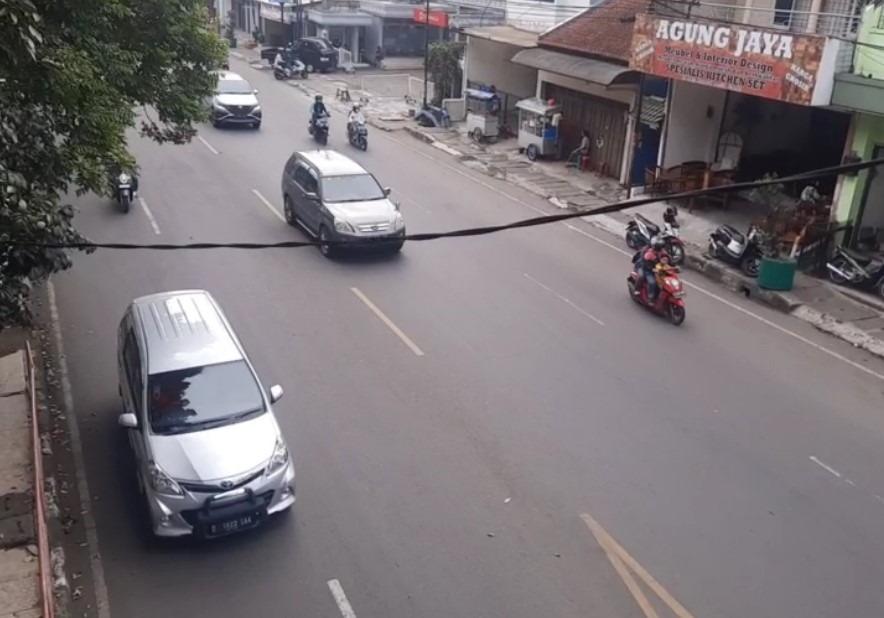mobil: (104, 293, 311, 536), (282, 151, 413, 259)
motor: (627, 241, 690, 323), (307, 96, 332, 143), (348, 104, 374, 149)
